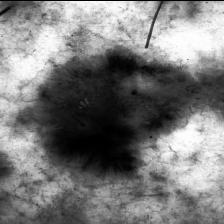Potentially Malignant Skin Tumors: (54, 119, 150, 168)
